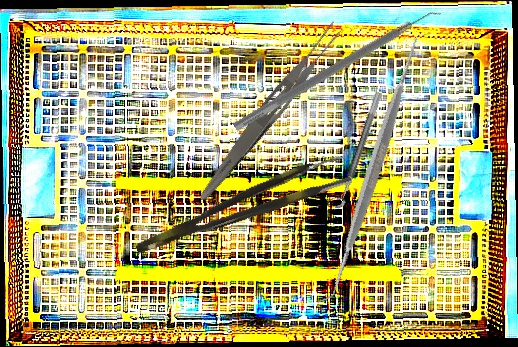Dressing Forceps: (194, 17, 348, 209)
Fixation Ring: (325, 87, 384, 211)
Spatula Surgical: (238, 31, 510, 305), (232, 1, 445, 142)
Tissue Forceps: (128, 152, 353, 257)
